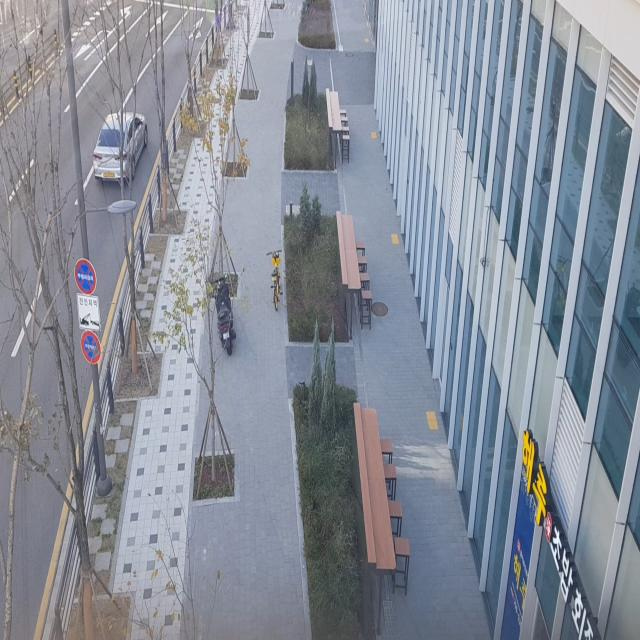Car: (86, 92, 152, 197)
